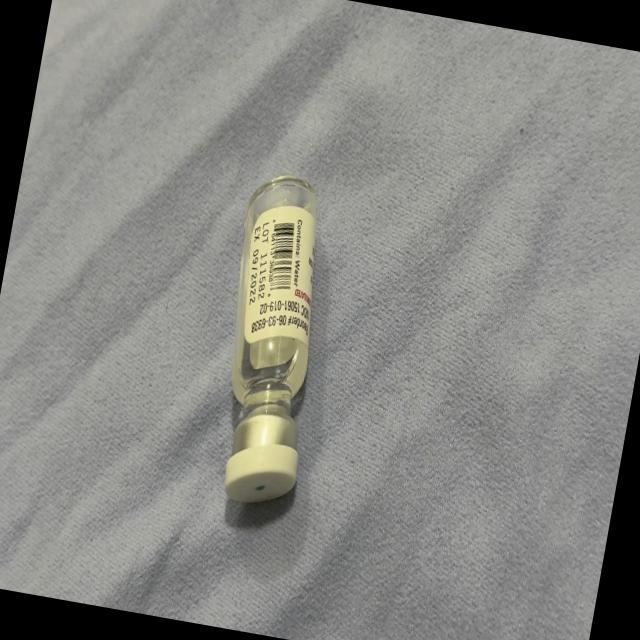fentanl_citrat: (198, 174, 346, 505)
